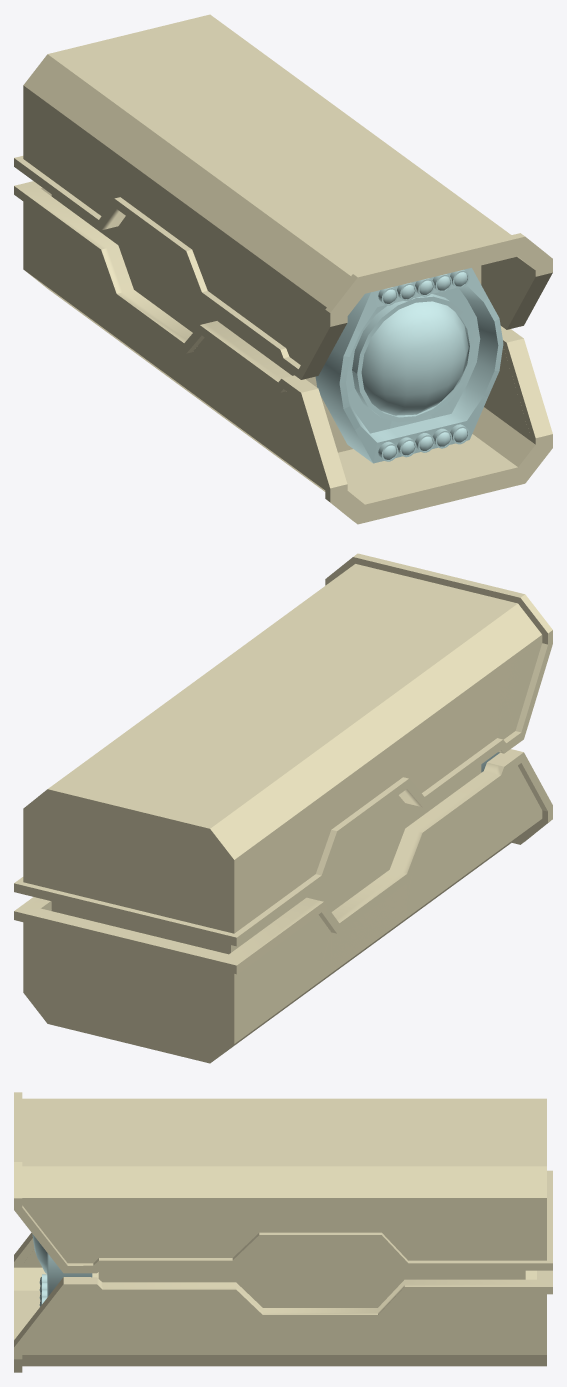
The model's file is SecCam_Body_low.fbx.
3 renders of one model, top to bottom at view 1: azimuth 30°, elevation 25°; view 2: azimuth 150°, elevation 25°; view 3: azimuth 270°, elevation 25°, orthographic. The views are drawn at different scales.
Parts seen in each view (by area): view 1: camera_body, camera_lens; view 2: camera_body; view 3: camera_body, camera_lens.
Part boxes in pixels (box(x1,y1,x2,y2)): camera_body: box(14, 14, 552, 524); camera_lens: box(315, 268, 503, 463); camera_body: box(14, 553, 552, 1063); camera_body: box(14, 1092, 552, 1372); camera_lens: box(32, 1234, 92, 1306).
Size of what is drawn, in the model's own units: 45.04 by 47.73 by 111.
